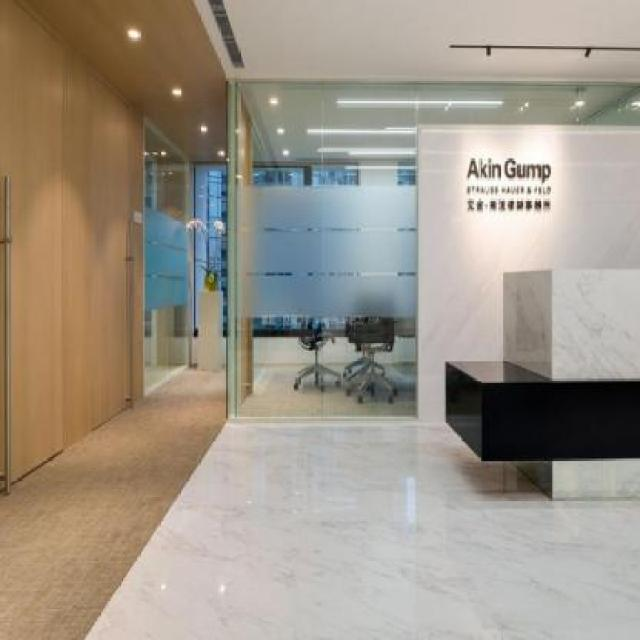frontdesk: (437, 251, 640, 492)
